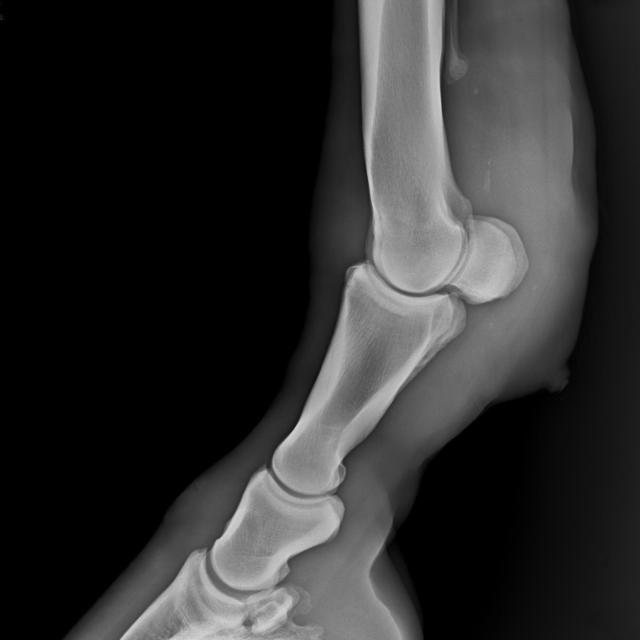joint-ht8A: (332, 185, 546, 350)
